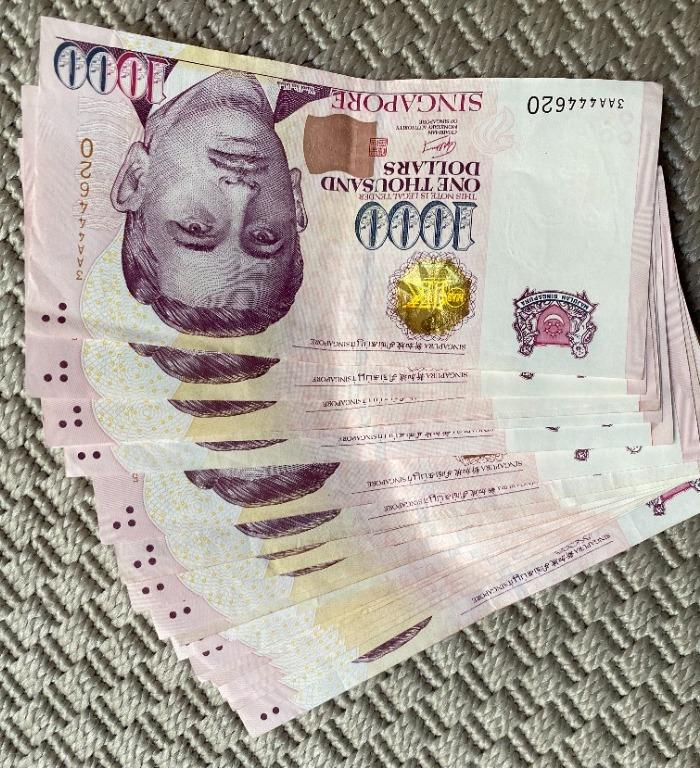1000SingaporeDollar: (41, 36, 646, 357)
